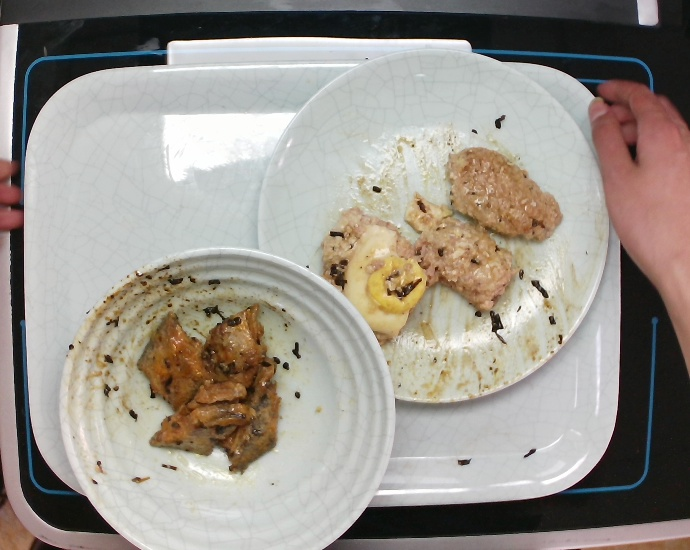JYsf-Da_Tang_Wan: (53, 245, 400, 546)
JYsf-Da_Yuan_Pan: (251, 44, 614, 406)
